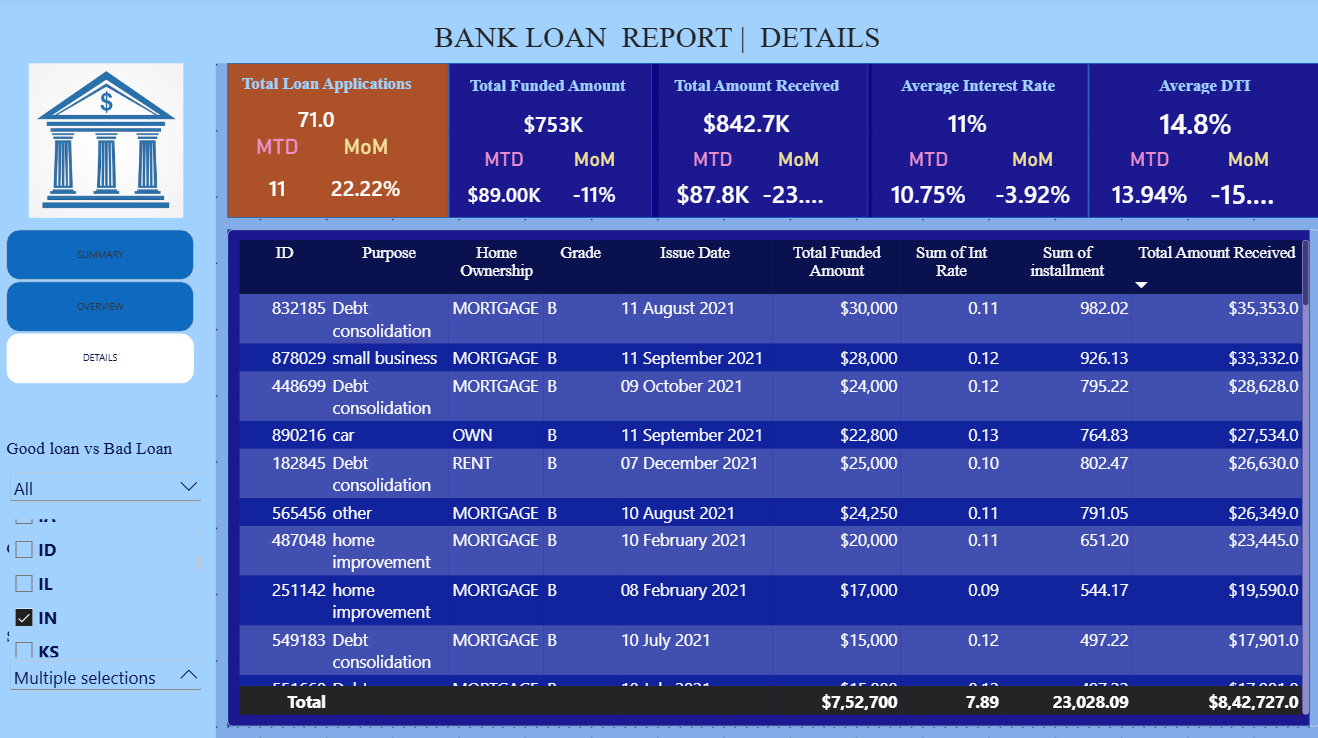

What the dashboard file says about the page in this screenshot:
{"tool":"powerbi","page":{"name":"DETAILS","canvas":[1920,1080],"ordinal":2},"visuals":[{"type":"shape","box":[0,88,320,992],"z":0},{"type":"shape","box":[336,96,320,224],"z":0,"group":"g1"},{"type":"shape","box":[656,96,304,224],"z":0,"group":"g6"},{"type":"shape","box":[951.6,96,320,224],"z":0,"group":"g3"},{"type":"shape","box":[1264,96,320,224],"z":0,"group":"g4"},{"type":"shape","box":[1584,96,336,224],"z":0,"group":"g5"},{"type":"shape","box":[0,0,1920,96],"z":1000},{"type":"textbox","box":[624,113.2,352,34.5],"z":1000,"group":"g6"},{"type":"cardVisual","fields":{"Data":["bank_loan_data.Total Loan Applications"]},"box":[350.5,127.8,228.6,95.4],"z":1000,"group":"g1"},{"type":"cardVisual","fields":{"Data":["bank_loan_data.Total Aount Received"]},"box":[974.5,130.5,228.6,103.4],"z":1000,"group":"g3"},{"type":"cardVisual","fields":{"Data":["bank_loan_data.Average Interest Rate"]},"box":[1294.5,130.5,228.6,103.4],"z":1000,"group":"g4"},{"type":"cardVisual","fields":{"Data":["bank_loan_data.Average DTI"]},"box":[1616,130.5,240,103.4],"z":1000,"group":"g5"},{"type":"textbox","box":[0,32,1920,64],"z":2000},{"type":"textbox","box":[320,111.9,320,31.8],"z":2000,"group":"g1"},{"type":"textbox","box":[944,113.2,320,34.5],"z":2000,"group":"g3"},{"type":"textbox","box":[1264,113.2,320,34.5],"z":2000,"group":"g4"},{"type":"textbox","box":[1584,113.2,336,34.5],"z":2000,"group":"g5"},{"type":"cardVisual","title":"MoM","fields":{"Data":["bank_loan_data.MoM Total Funded Amount"]},"box":[791.6,216.6,150.9,86.2],"z":2000,"group":"g6"},{"type":"group","id":"g1","title":"Group 1","box":[320,96,336,224],"z":3000},{"type":"cardVisual","fields":{"Data":["bank_loan_data.Total Funded Amount"]},"box":[720,147.7,176,68.9],"z":3000,"group":"g6"},{"type":"cardVisual","title":"MTD","fields":{"Data":["bank_loan_data.MTD Loan Applications"]},"box":[336,199.4,144,103.4],"z":3000,"group":"g1"},{"type":"cardVisual","title":"MTD","fields":{"Data":["bank_loan_data.MTD Total Amount Received"]},"box":[960,216.6,160,86.2],"z":3000,"group":"g3"},{"type":"cardVisual","title":"MTD","fields":{"Data":["bank_loan_data.MTD Average Interest Rate"]},"box":[1280,216.6,144,86.2],"z":3000,"group":"g4"},{"type":"cardVisual","title":"MTD","fields":{"Data":["bank_loan_data.MTD Average DTI"]},"box":[1600,216.6,144,86.2],"z":3000,"group":"g5"},{"type":"group","id":"g2","title":"Group 1","box":[624,96,352,224],"z":4000},{"type":"cardVisual","title":"MoM","fields":{"Data":["bank_loan_data.MoM Loan Applications"]},"box":[464,199.4,144,103.4],"z":4000,"group":"g1"},{"type":"cardVisual","title":"MTD","fields":{"Data":["bank_loan_data.MTD Funded Amount"]},"box":[656,216.6,160,86.2],"z":4000,"group":"g6"},{"type":"cardVisual","title":"MoM","fields":{"Data":["bank_loan_data.Mom Loan Received"]},"box":[1096.4,216.6,137.1,86.2],"z":4000,"group":"g3"},{"type":"cardVisual","title":"MoM","fields":{"Data":["bank_loan_data.MoM Avg Int Rate"]},"box":[1424,216.6,160,86.2],"z":4000,"group":"g4"},{"type":"cardVisual","title":"MoM","fields":{"Data":["bank_loan_data.MoM Average DTI"]},"box":[1744,216.6,144,86.2],"z":4000,"group":"g5"},{"type":"shape","box":[336,336,1568,720],"z":5000},{"type":"group","id":"g3","title":"Group 1","box":[944,96,320,224],"z":6000},{"type":"group","id":"g4","title":"Group 1","box":[1264,96,320,224],"z":7000},{"type":"group","id":"g5","title":"Group 1","box":[1584,96,336,224],"z":8000},{"type":"slicer","title":"Good loan vs Bad Loan","fields":{"Values":["bank_loan_data.Good vs Bad Loan"]},"box":[16,640,288,96],"z":9000},{"type":"slicer","title":"Grade","fields":{"Values":["bank_loan_data.grade"]},"box":[16,784,288,96],"z":10000},{"type":"slicer","title":"State","fields":{"Values":["bank_loan_data.address_state"]},"box":[16,912,288,112],"z":11000},{"type":"group","id":"g6","title":"Group 2","box":[624,96,352,224],"z":11001,"group":"g2"},{"type":"tableEx","fields":{"Values":["bank_loan_data.id","bank_loan_data.purpose","bank_loan_data.home_ownership","bank_loan_data.grade","bank_loan_data.issue_date","bank_loan_data.Total Funded Amount","Sum(bank_loan_data.int_rate)","Sum(bank_loan_data.installment)","bank_loan_data.Total Amount Received"]},"box":[336,336,1584,720],"z":13000},{"type":"image","box":[48,96,224,224],"z":14000},{"type":"pageNavigator","box":[16,336,272,224],"z":15000}]}

Visuals, with their boxes on the page's 1920x1080 design canvas (x1, y1, x2, y2). These are canvas units, not pixel positions in the 1318x738 screenshot, which may show the page scaled, cropped or inside an application window:
shape: box(0, 88, 320, 1080)
shape: box(336, 96, 656, 320)
shape: box(656, 96, 960, 320)
shape: box(952, 96, 1272, 320)
shape: box(1264, 96, 1584, 320)
shape: box(1584, 96, 1920, 320)
shape: box(0, 0, 1920, 96)
textbox: box(624, 113, 976, 148)
cardVisual - bank_loan_data.Total Loan Applications: box(350, 128, 579, 223)
cardVisual - bank_loan_data.Total Aount Received: box(974, 130, 1203, 234)
cardVisual - bank_loan_data.Average Interest Rate: box(1294, 130, 1523, 234)
cardVisual - bank_loan_data.Average DTI: box(1616, 130, 1856, 234)
textbox: box(0, 32, 1920, 96)
textbox: box(320, 112, 640, 144)
textbox: box(944, 113, 1264, 148)
textbox: box(1264, 113, 1584, 148)
textbox: box(1584, 113, 1920, 148)
"MoM" cardVisual: box(792, 217, 942, 303)
"Group 1" group: box(320, 96, 656, 320)
cardVisual - bank_loan_data.Total Funded Amount: box(720, 148, 896, 217)
"MTD" cardVisual: box(336, 199, 480, 303)
"MTD" cardVisual: box(960, 217, 1120, 303)
"MTD" cardVisual: box(1280, 217, 1424, 303)
"MTD" cardVisual: box(1600, 217, 1744, 303)
"Group 1" group: box(624, 96, 976, 320)
"MoM" cardVisual: box(464, 199, 608, 303)
"MTD" cardVisual: box(656, 217, 816, 303)
"MoM" cardVisual: box(1096, 217, 1234, 303)
"MoM" cardVisual: box(1424, 217, 1584, 303)
"MoM" cardVisual: box(1744, 217, 1888, 303)
shape: box(336, 336, 1904, 1056)
"Group 1" group: box(944, 96, 1264, 320)
"Group 1" group: box(1264, 96, 1584, 320)
"Group 1" group: box(1584, 96, 1920, 320)
"Good loan vs Bad Loan" slicer: box(16, 640, 304, 736)
"Grade" slicer: box(16, 784, 304, 880)
"State" slicer: box(16, 912, 304, 1024)
"Group 2" group: box(624, 96, 976, 320)
tableEx - bank_loan_data.id x bank_loan_data.purpose: box(336, 336, 1920, 1056)
image: box(48, 96, 272, 320)
pageNavigator: box(16, 336, 288, 560)
